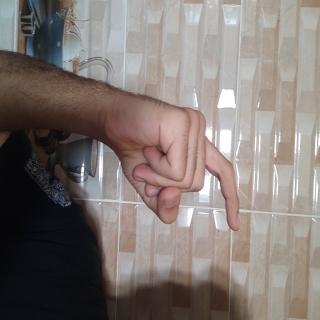RAA: (57, 99, 178, 304)
